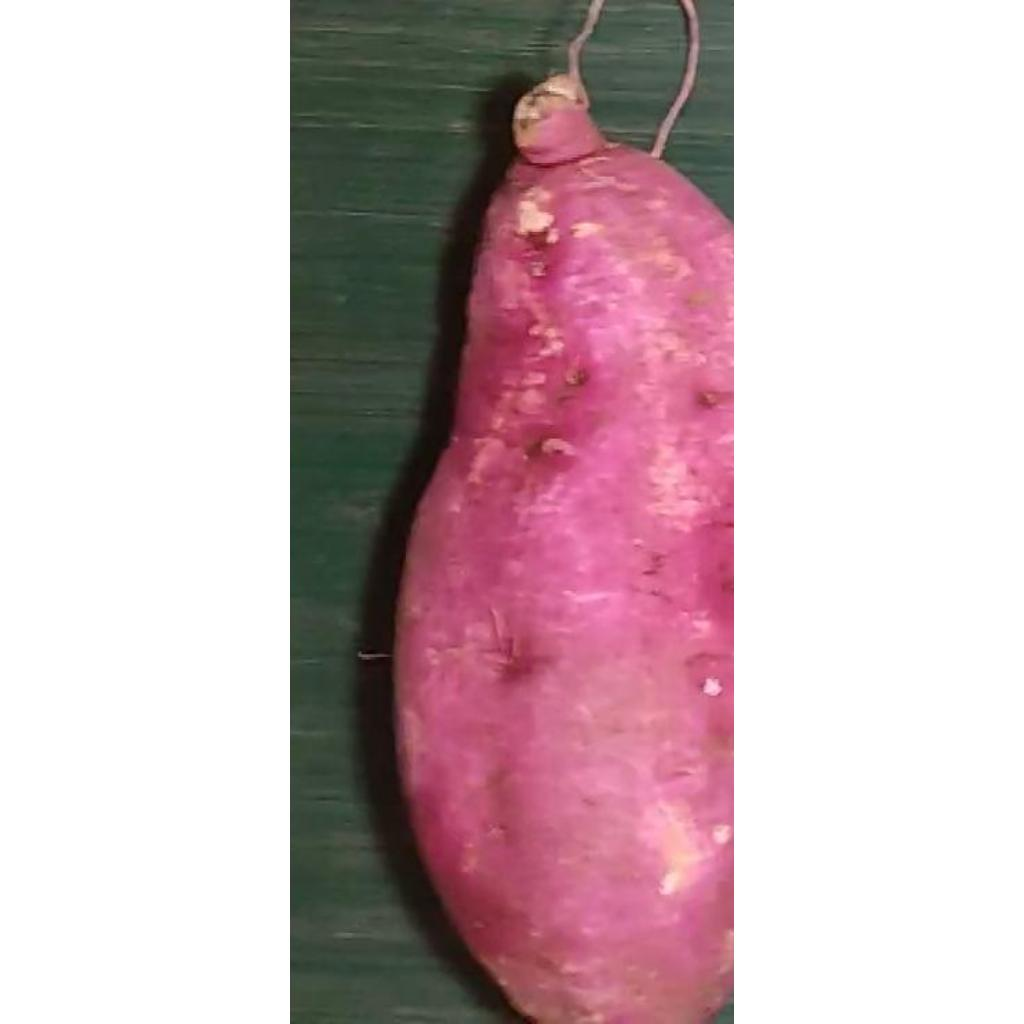Sweet Potato: (389, 73, 727, 1024)
